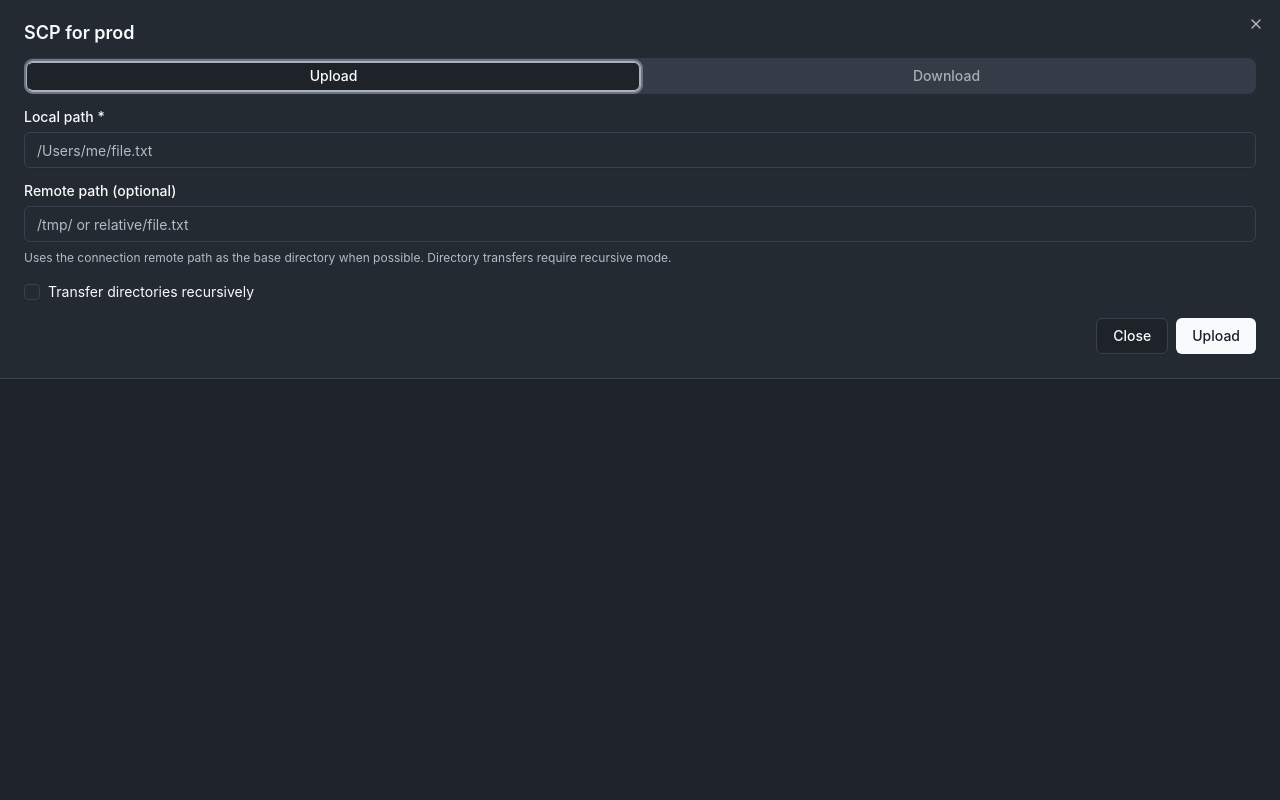
Test: ScpDialog › renders the submit error inside a role=alert with aria-live
Type "/tmp/x" into the field labelled "Local path *" at (640, 150), box [24,132,1256,168]
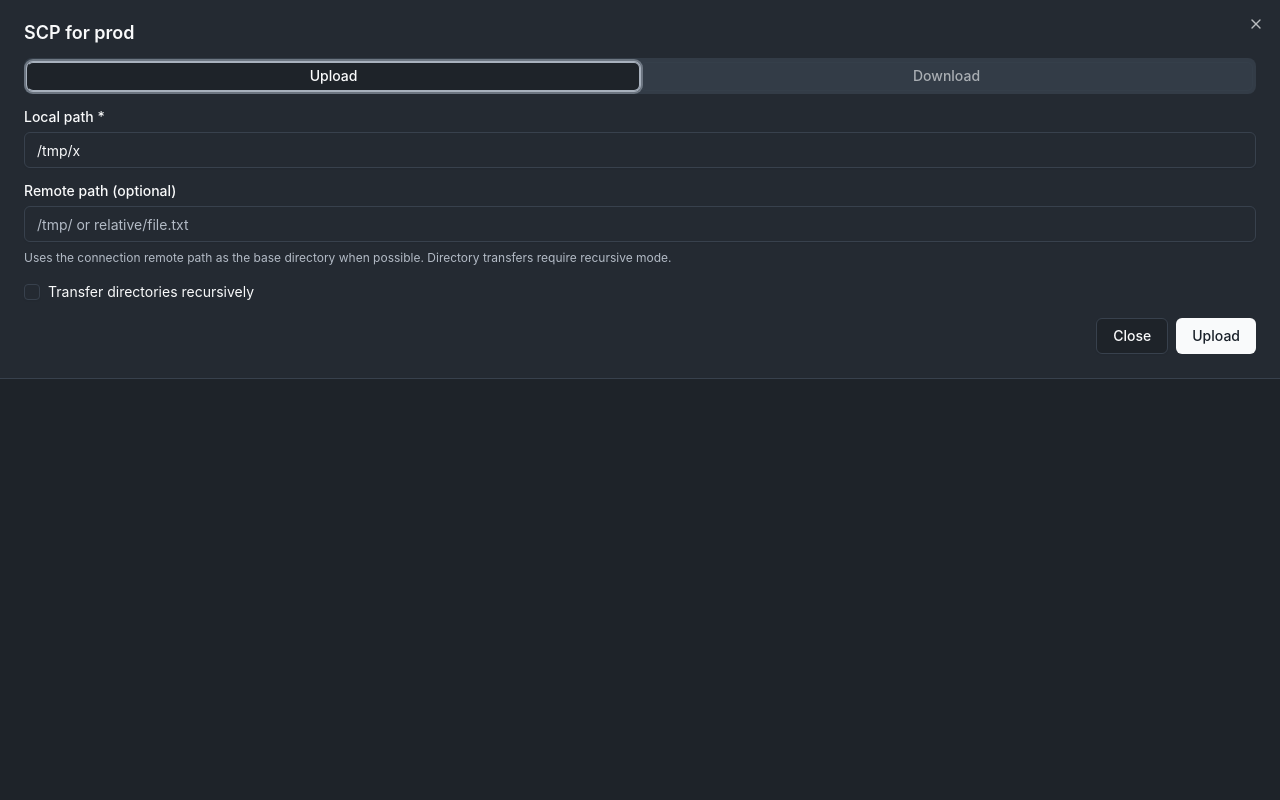
Click the button "Upload" at (1216, 336), box [1176,318,1256,354]
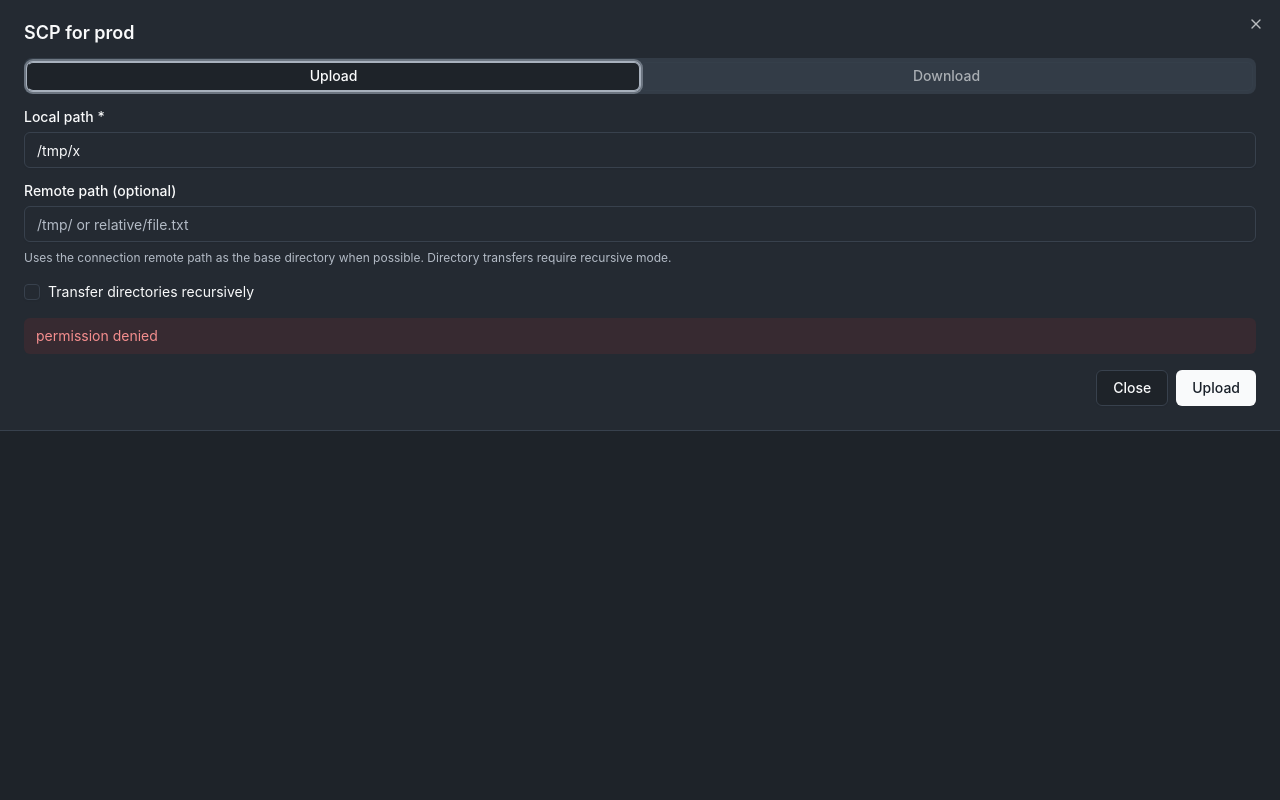
Now the message reads "permission denied", box [36,327,158,344]
